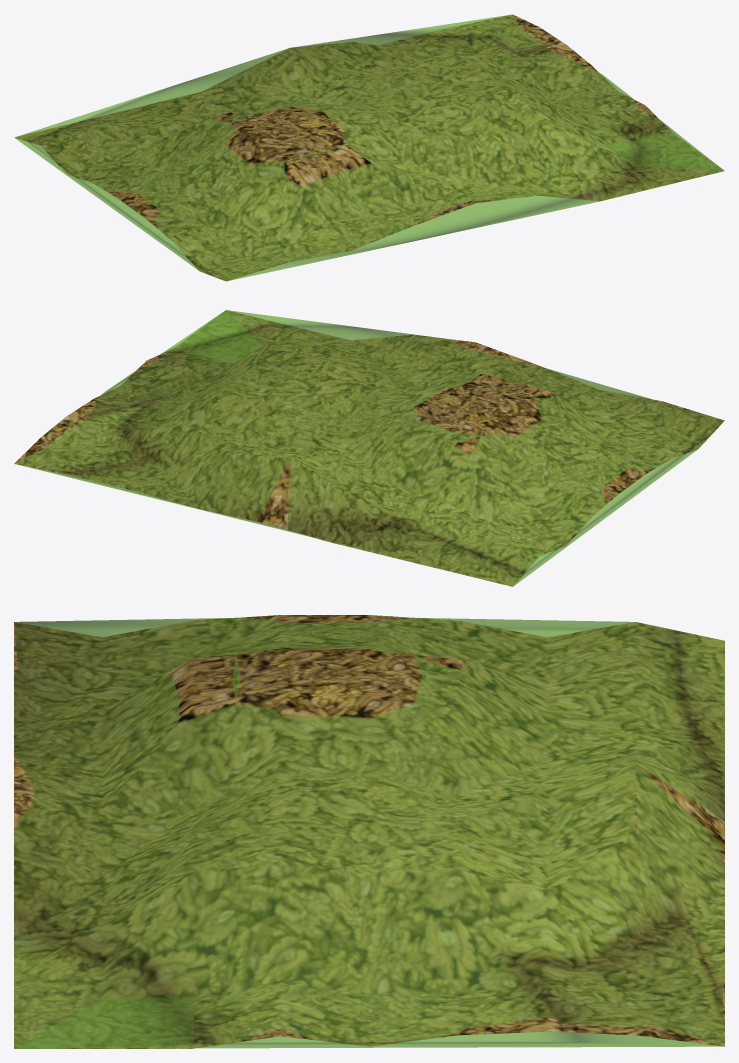
The model's file is pg_Nuts_01.fbx.
3 renders of one model, top to bottom at view 1: azimuth 30°, elevation 25°; view 2: azimuth 150°, elevation 25°; view 3: azimuth 270°, elevation 25°, orthographic. The views are drawn at different scales.
Visible parts, largest first — view 1: pg_Nuts_01_a_col, pg_Nuts_01_a_LOD0; view 2: pg_Nuts_01_a_LOD0, pg_Nuts_01_a_col; view 3: pg_Nuts_01_a_LOD0, pg_Nuts_01_a_col.
Part boxes in pixels (bbox=[...]): pg_Nuts_01_a_col: bbox=[14, 14, 724, 281]; pg_Nuts_01_a_LOD0: bbox=[15, 14, 723, 281]; pg_Nuts_01_a_LOD0: bbox=[14, 310, 724, 586]; pg_Nuts_01_a_col: bbox=[14, 310, 724, 586]; pg_Nuts_01_a_LOD0: bbox=[14, 615, 724, 1048]; pg_Nuts_01_a_col: bbox=[14, 617, 724, 1048].
Size of what is drawn, in the model's own units: 40.53 by 4.4 by 29.84.
Materials: 2 (1 with a texture image).
